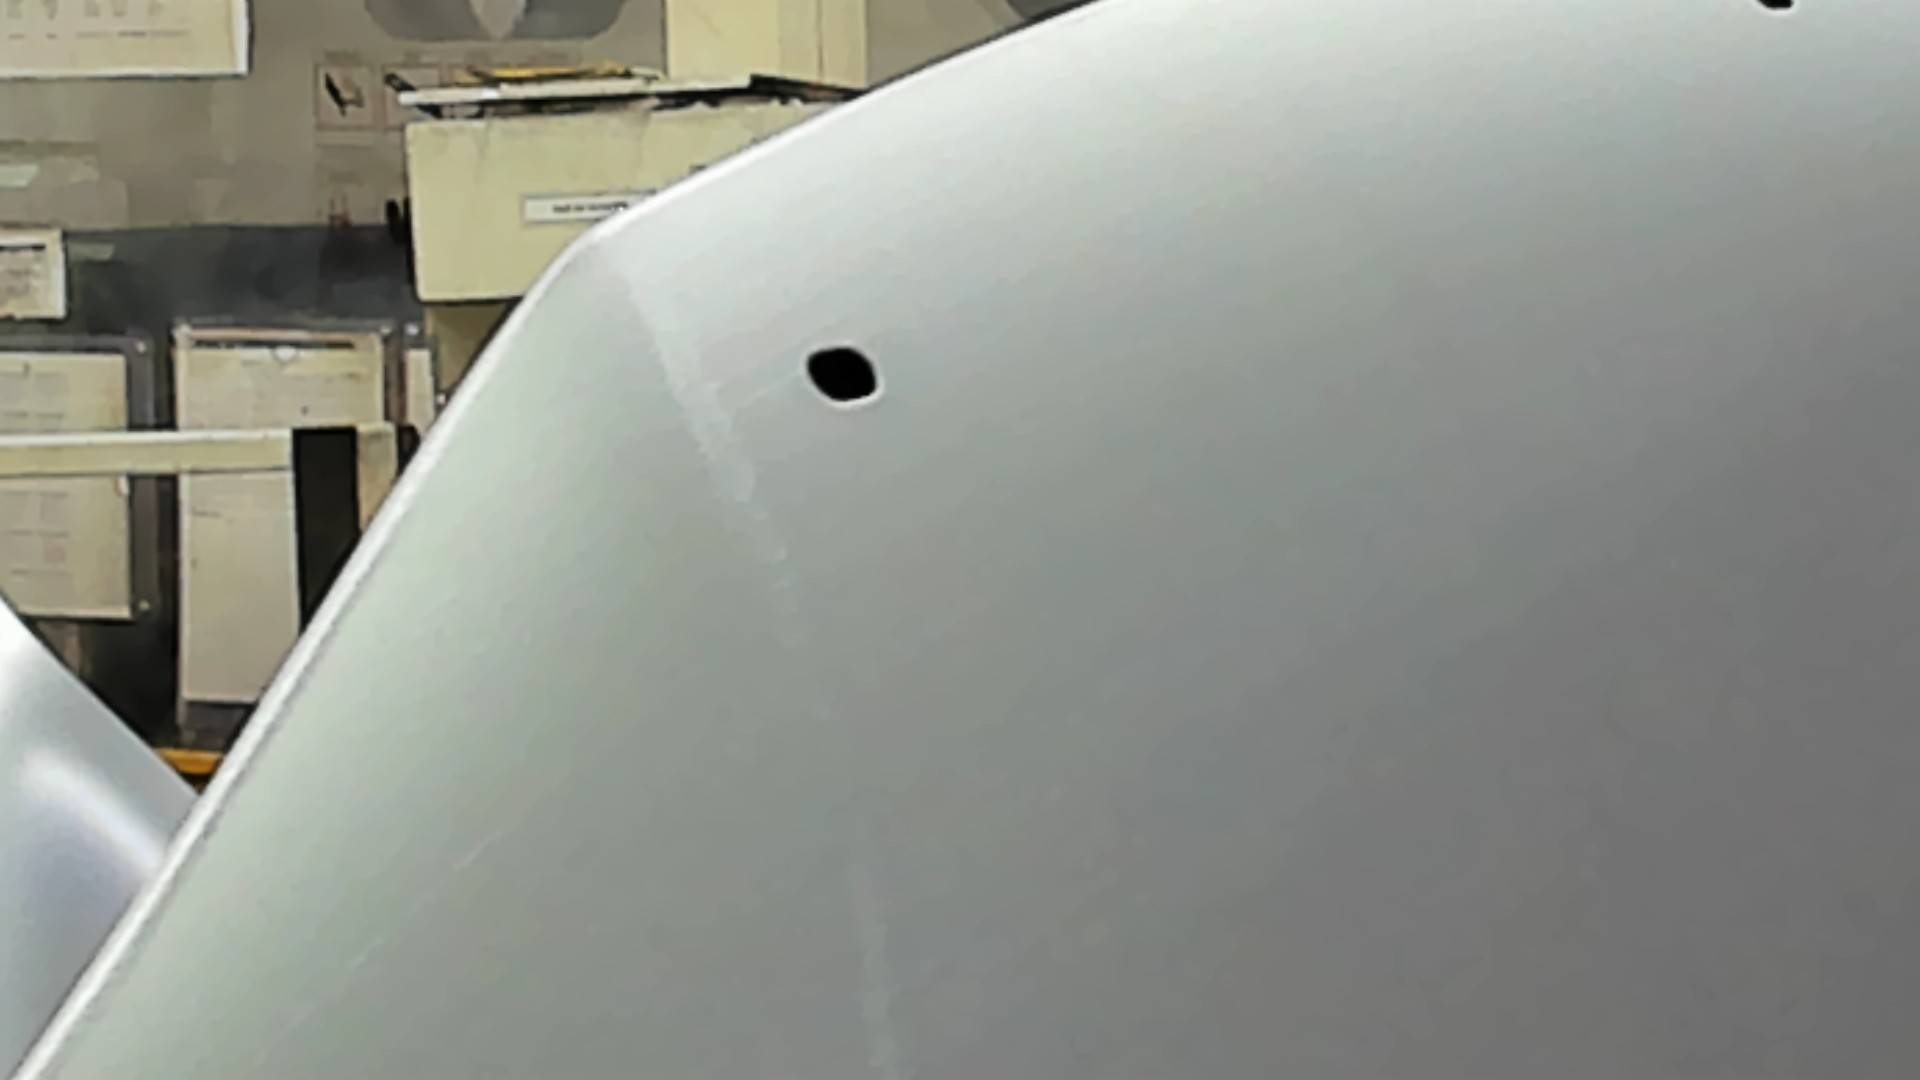amorfo: (798, 342, 886, 411)
capo: (952, 88, 1920, 1080)
